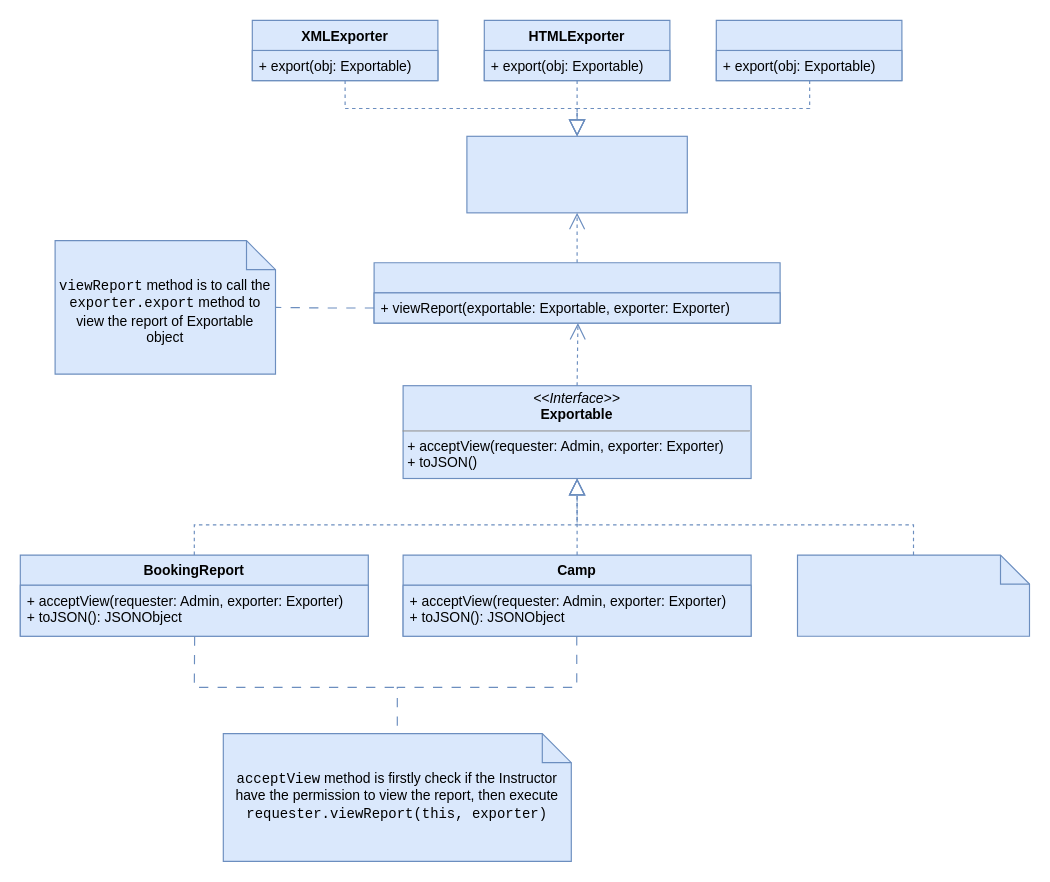
Image size: 1050x882. Some labels were removed from this diagram. Here are the shapes that lost their labels. From the top down, the box of each, then its label:
(715, 19, 902, 81): PlainTextExporter
(466, 135, 687, 213): <<Interface>> Exporter + export(obj: Exportable)
(373, 262, 780, 323): Admin
(796, 554, 1030, 636): Other classes exportable
